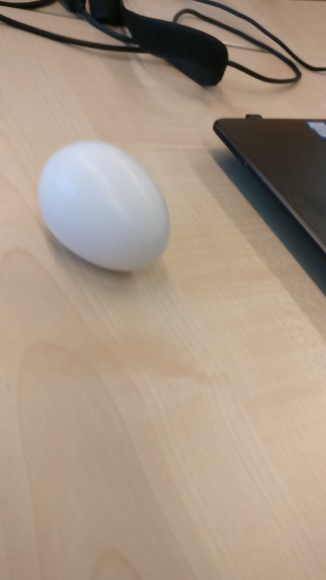egg: (39, 139, 171, 274)
